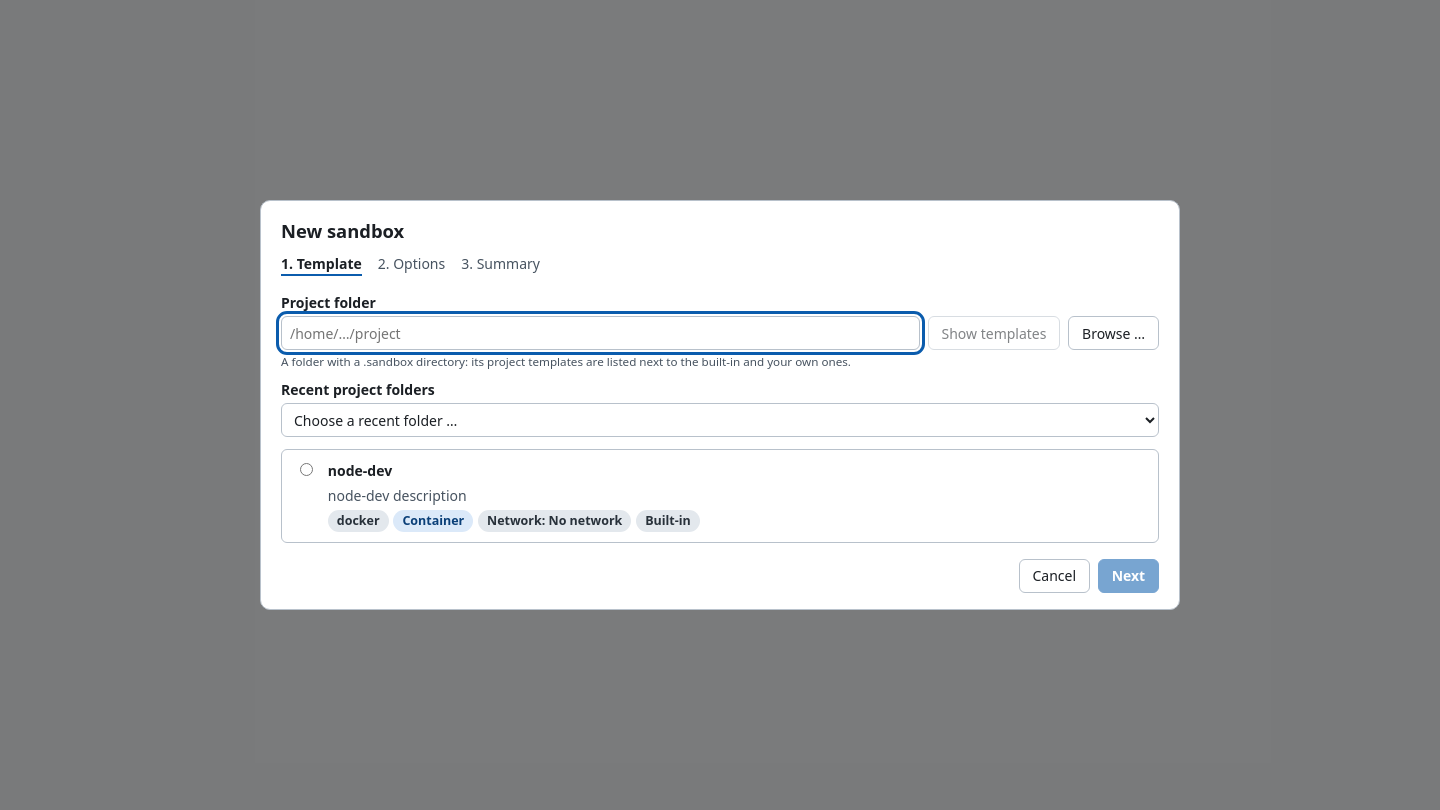
Test: New sandbox dialog: project templates › lists the templates of the chosen project next to the built-in ones, marked project with their trust state
Expected: the text "node-dev" is shown, [328,461,392,480]
Expected: the text "proj-shell" is not shown
Type "/work/demo" into the field labelled "Project folder" at (600, 333), box [281,316,920,350]
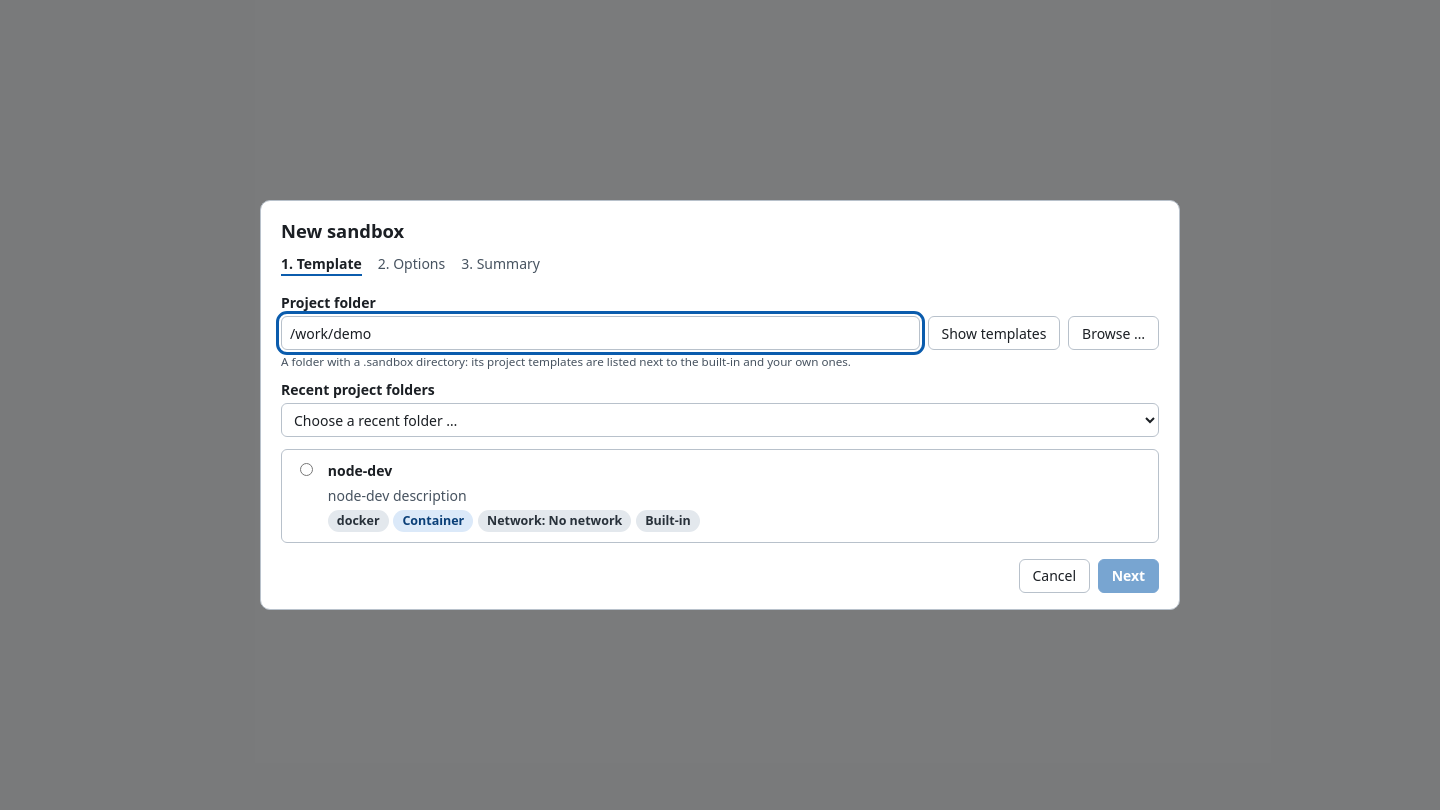
Press Enter in the field labelled "Project folder", box [281,316,920,350]
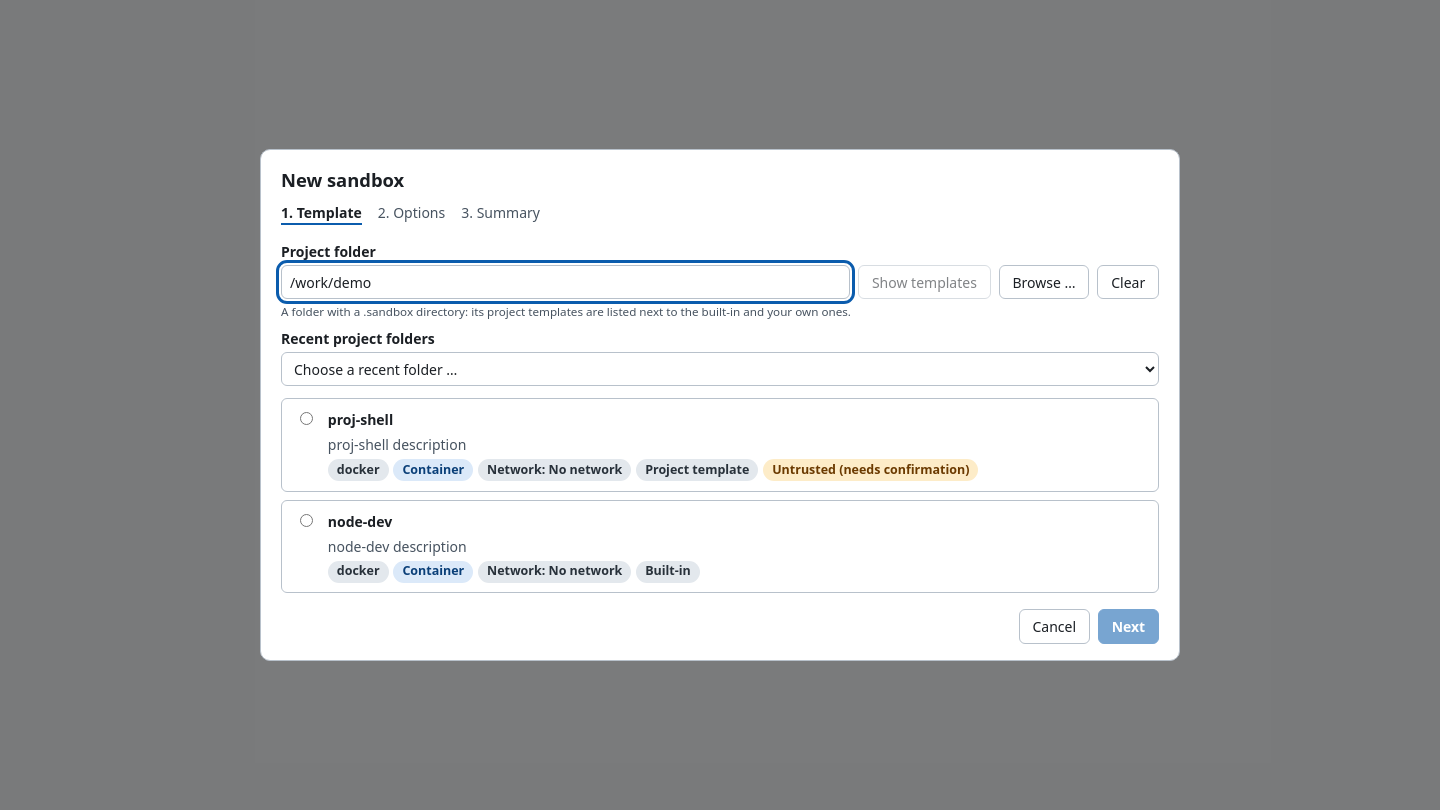
Expected: the text "node-dev" is shown, [328,512,392,530]
Expected: the text "Project template" is shown, [636,459,758,481]
Expected: the text "Untrusted (needs confirmation)" is shown, [763,459,978,481]
